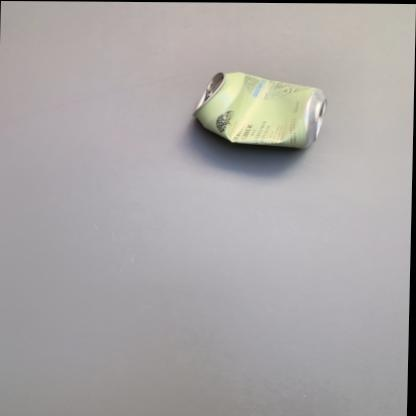trash: (194, 72, 326, 147)
